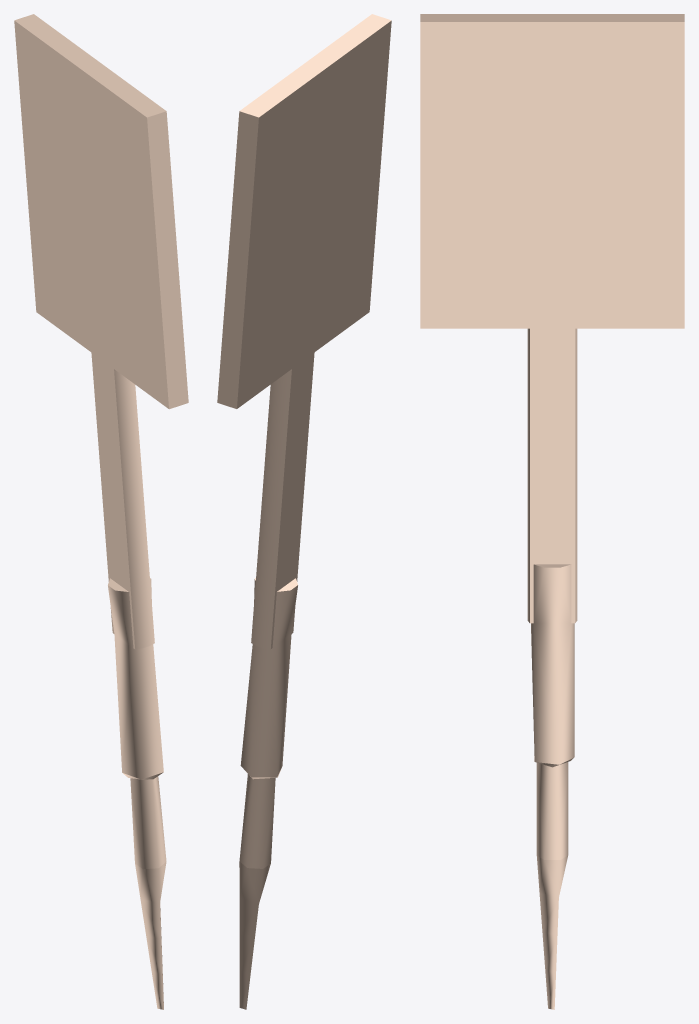
The model's file is Plque poid Gdetente_instance_1.obj.
3 renders of one model, left to right at view 1: azimuth 30°, elevation 25°; view 2: azimuth 150°, elevation 25°; view 3: azimuth 270°, elevation 25°, orthographic.
Parts seen in each view (by area): view 1: Face_4, Face_12, Face_6, Face_18, Face_10, Face_14, Face_15; view 2: Face_4, Face_12, Face_9, Face_19, Face_10, Face_14, Face_15; view 3: Face_3, Face_12, Face_14, Face_15, Face_10, Face_18, Face_19.
Part boxes in pixels (x1,y1,x2,y2): Face_4: (14, 21, 168, 648); Face_12: (108, 579, 163, 779); Face_6: (147, 111, 188, 409); Face_18: (114, 369, 154, 649); Face_10: (14, 14, 166, 117); Face_14: (130, 776, 166, 869); Face_15: (135, 862, 166, 1009); Face_4: (237, 20, 391, 648); Face_12: (240, 579, 297, 777); Face_9: (217, 111, 258, 408); Face_19: (251, 369, 291, 649); Face_10: (239, 14, 391, 117); Face_14: (239, 774, 275, 868); Face_15: (239, 861, 270, 1009); Face_3: (420, 22, 684, 623); Face_12: (531, 564, 574, 764); Face_14: (536, 762, 568, 859); Face_15: (536, 855, 567, 1009); Face_10: (420, 14, 684, 21); Face_18: (527, 328, 529, 622); Face_19: (575, 328, 577, 622).
Size of the model in its own units: 0.00771 by 0.0838 by 0.021.
